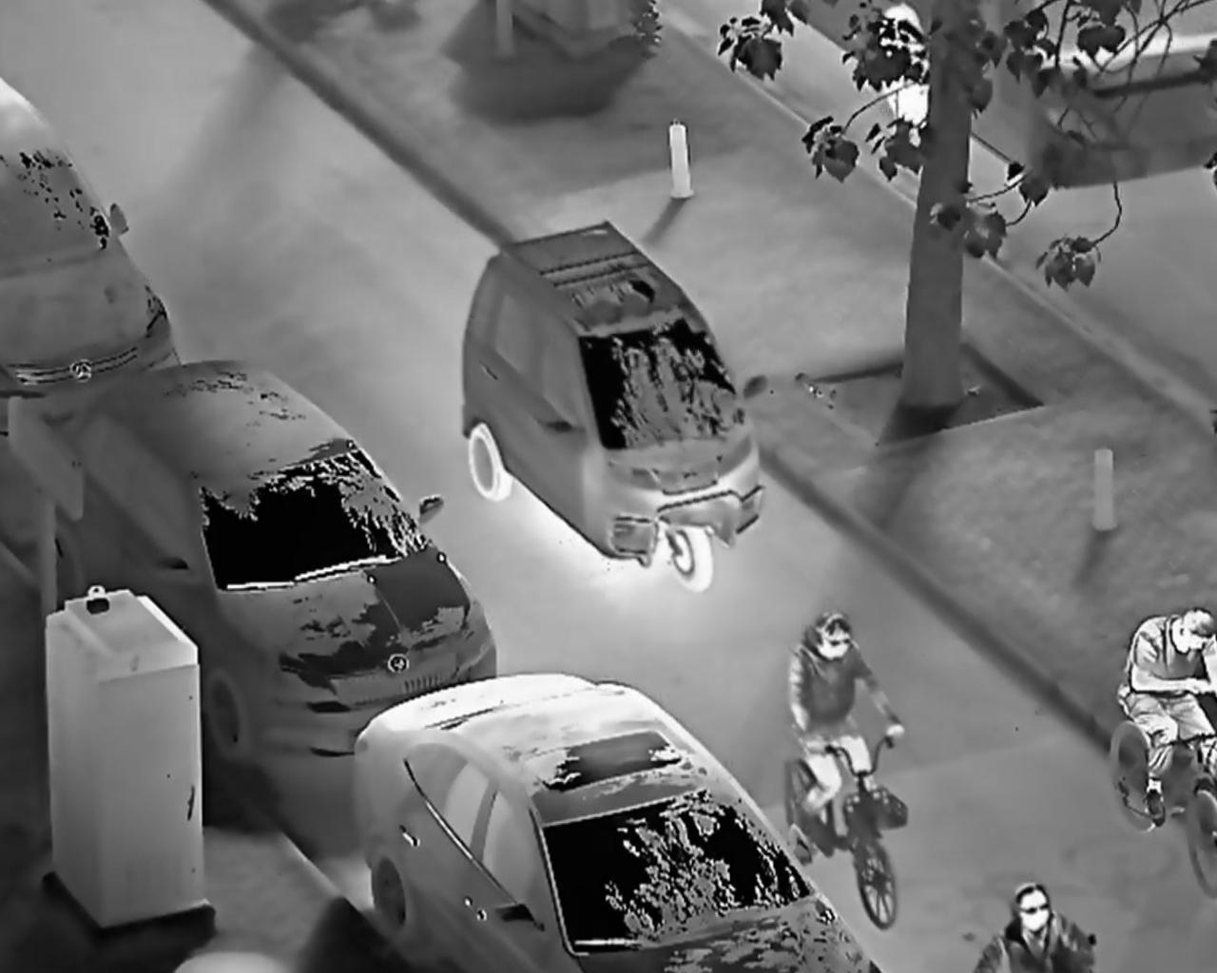person: (784, 608, 910, 861), (1113, 602, 1217, 831)
